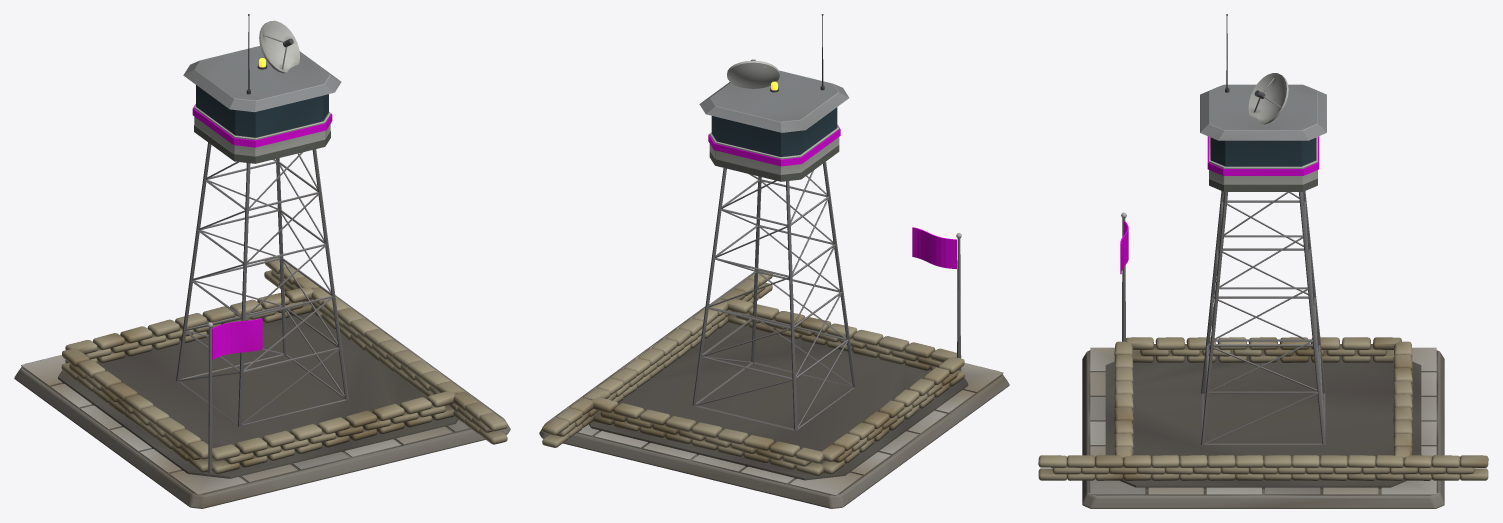
The model's file is observation_post.glb.
The picture shows the model from 3 angles, left to right: view 1: azimuth 30°, elevation 25°; view 2: azimuth 150°, elevation 25°; view 3: azimuth 270°, elevation 25°; orthographic projection. The views are drawn at different scales.
Parts seen in each view (by area): view 1: Body; view 2: Body; view 3: Body.
Part boxes in pixels (x1=…): Body: x1=14, y1=14, x2=510, y2=508; Body: x1=539, y1=14, x2=1009, y2=508; Body: x1=1038, y1=14, x2=1488, y2=508.
Bounding box in the file's own units: 5.98 × 7.34 × 7.42.
Materials: 1 (1 with a texture image).
